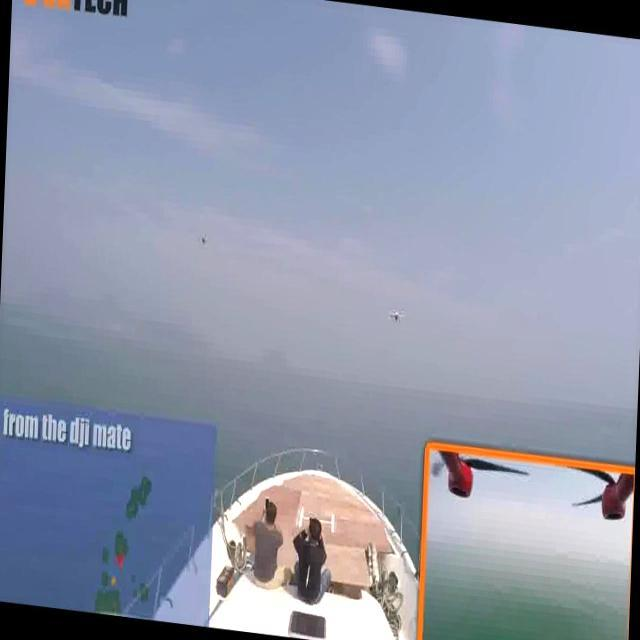drone: (382, 300, 410, 332), (196, 228, 216, 255)
